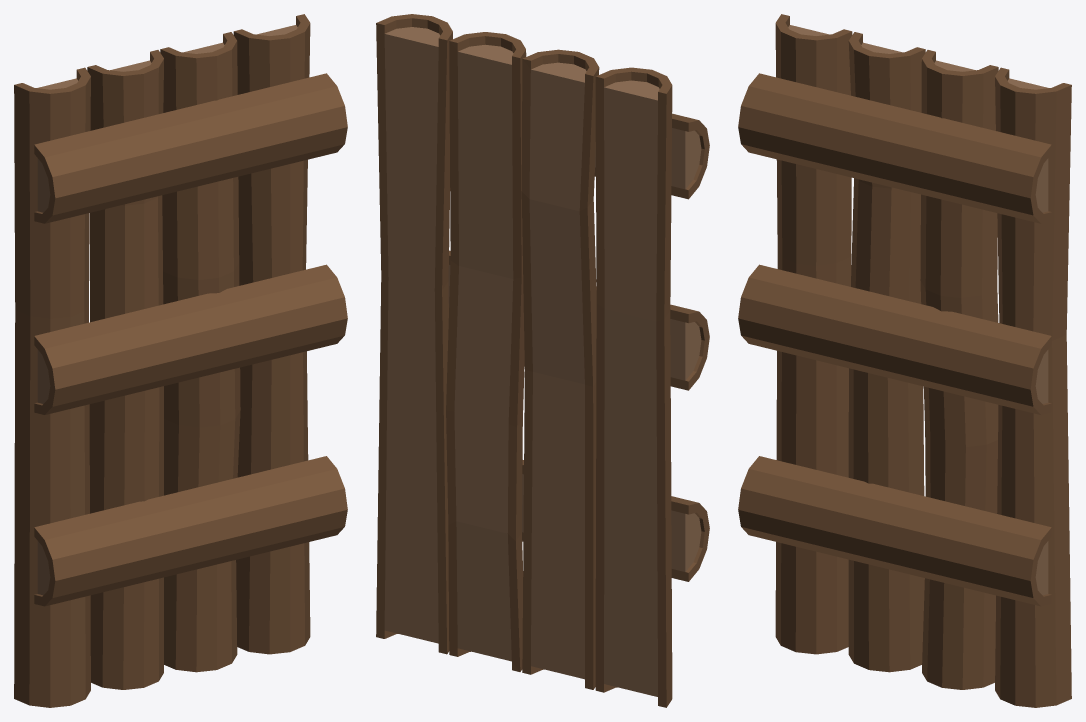
Rendered from mesh_wood_door.fbx.
3 views of the same model, side by side, from view 1: azimuth 30°, elevation 25°; view 2: azimuth 150°, elevation 25°; view 3: azimuth 330°, elevation 25° (orthographic).
Visible parts, largest first — view 1: mesh_wood_door; view 2: mesh_wood_door; view 3: mesh_wood_door.
Part boxes in pixels (x1,y1,x2,y2): mesh_wood_door: (14,14,347,707); mesh_wood_door: (376,14,709,707); mesh_wood_door: (738,14,1071,707).
Size of the model in its own units: 0.8 by 1.6 by 0.2071.
